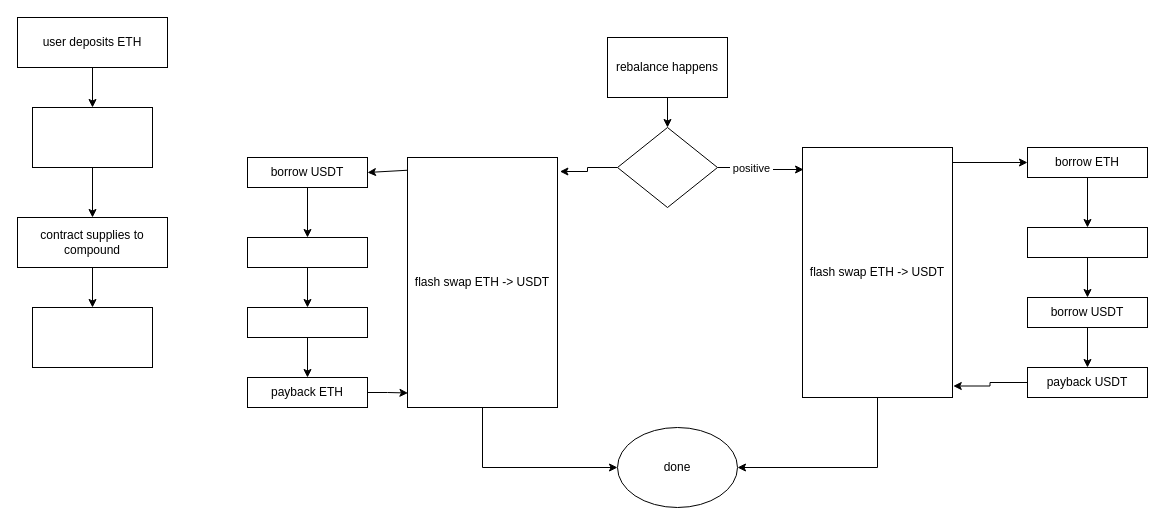
The diagram is 1165 pixels wide and 525 high, and some of its shapes have lost their labels. The centre of each missing label's shape, as x and y in pixels:
"creates leveraged tokens" belongs at point 92,137.
"payback compound debt" belongs at point 307,252.
"position state" belongs at point 667,167.
"rebalances position (creating leverage)" belongs at point 92,337.
"supply to compound" belongs at point 1087,242.
"withdraw ETH" belongs at point 307,322.
